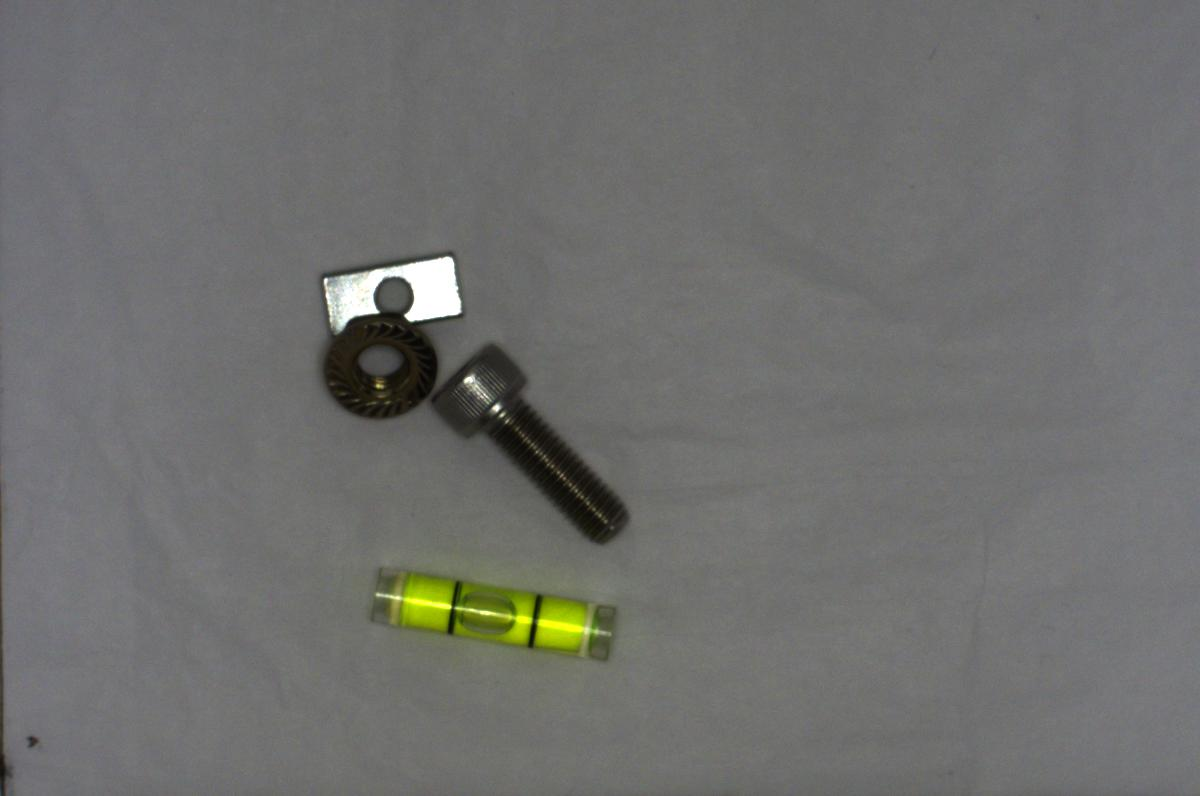Flange nut: (318, 310, 440, 422)
Hexagon screw: (431, 346, 624, 546)
Horizontal bubble: (359, 555, 626, 667)
Rectangular nut: (317, 248, 468, 335)
